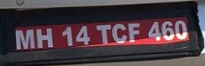0: (174, 19, 188, 40)
1: (61, 25, 75, 48)
4: (75, 25, 92, 45), (148, 21, 162, 42)
6: (161, 20, 175, 41)
C: (111, 23, 129, 44)
F: (128, 22, 141, 43)
H: (35, 27, 55, 49)
M: (14, 29, 35, 50)
T: (95, 24, 112, 44)
